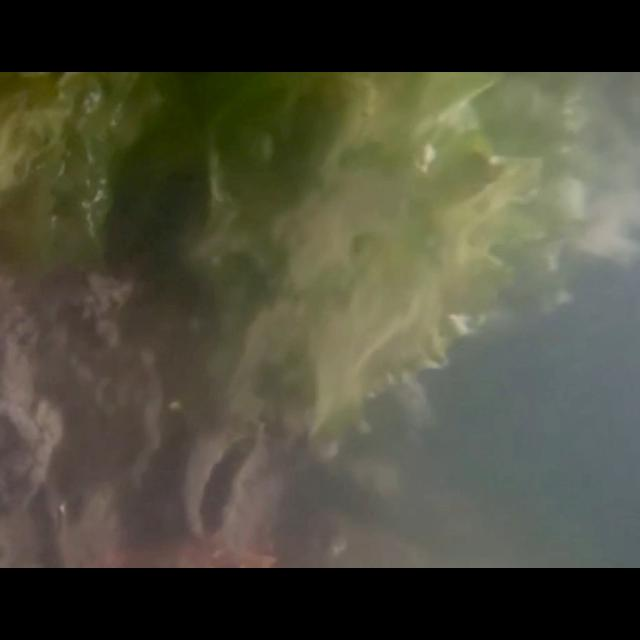Oyster-Open: (180, 417, 270, 539)
